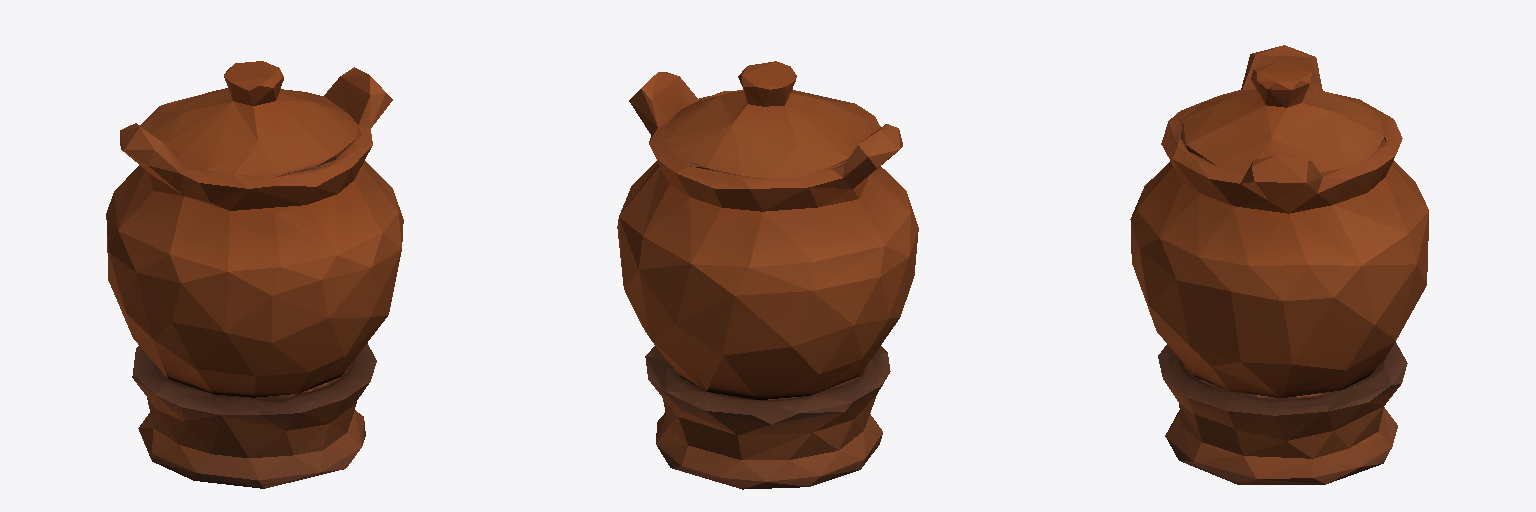
3 renders of one model, left to right at view 1: azimuth 30°, elevation 25°; view 2: azimuth 150°, elevation 25°; view 3: azimuth 270°, elevation 25°, orthographic.
Visible parts, largest first — view 1: texture_pbr_v128; view 2: texture_pbr_v128; view 3: texture_pbr_v128.
Part boxes in pixels (left/top/right/bottom): texture_pbr_v128: left=106, top=61, right=403, bottom=488; texture_pbr_v128: left=617, top=61, right=918, bottom=489; texture_pbr_v128: left=1130, top=45, right=1428, bottom=484.
Size of the model in its own units: 0.7799 by 1.05 by 0.7655.
Materials: 1 (1 with a texture image).